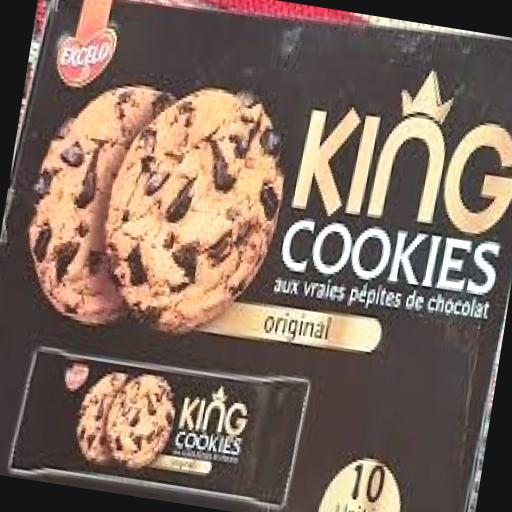king_cooking: (0, 302, 339, 512)
